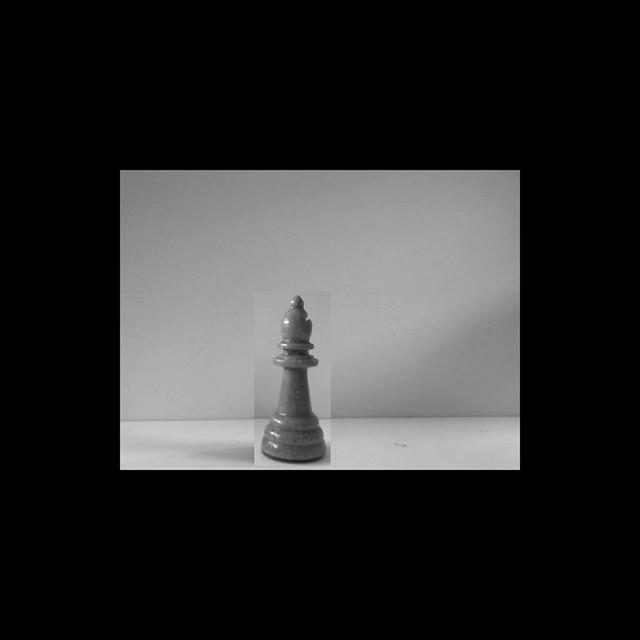black-bishop: (259, 295, 328, 463)
